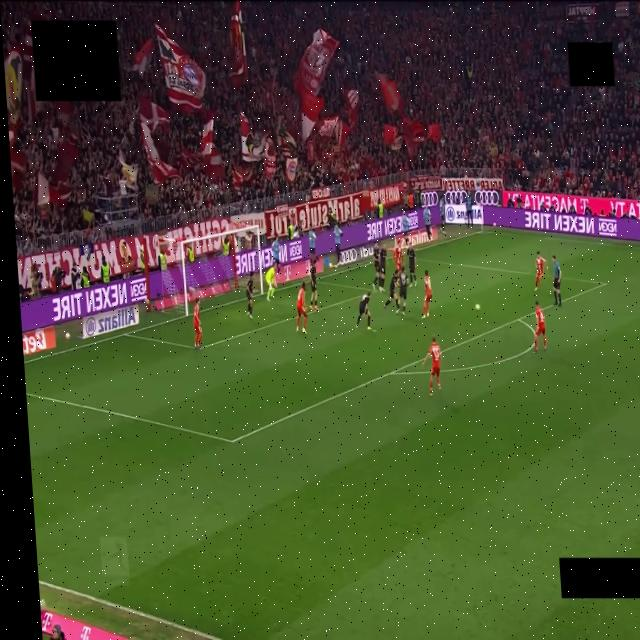ball: (474, 304, 480, 311)
player: (422, 336, 441, 395), (307, 258, 321, 311), (383, 272, 399, 313), (356, 293, 372, 330), (534, 301, 545, 352), (296, 281, 306, 334), (534, 252, 547, 291), (421, 270, 431, 319), (406, 240, 416, 287), (397, 267, 407, 314), (372, 243, 381, 291), (193, 298, 201, 350), (245, 272, 253, 318), (265, 266, 275, 300), (379, 242, 386, 290), (393, 244, 403, 271)
referee: (552, 256, 560, 306)
